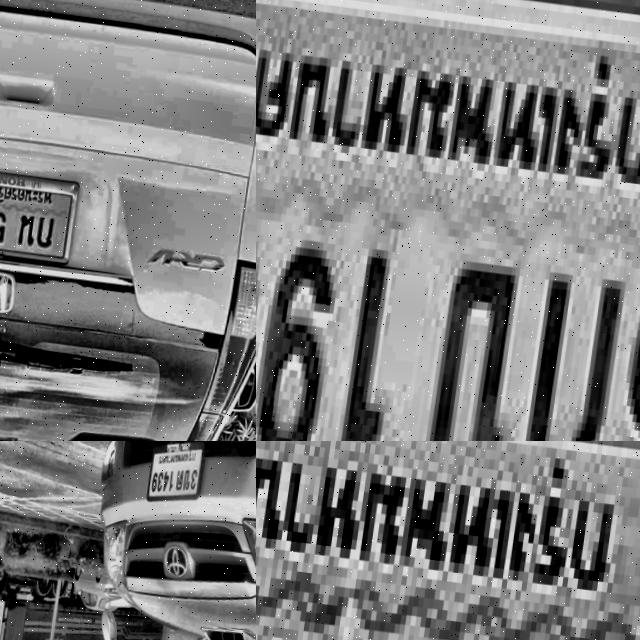license-plate: (256, 0, 640, 441), (256, 441, 640, 640), (0, 162, 80, 265), (143, 441, 207, 508)
